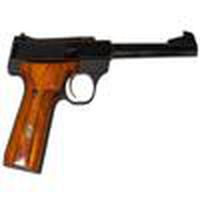gun: (6, 33, 199, 174)
